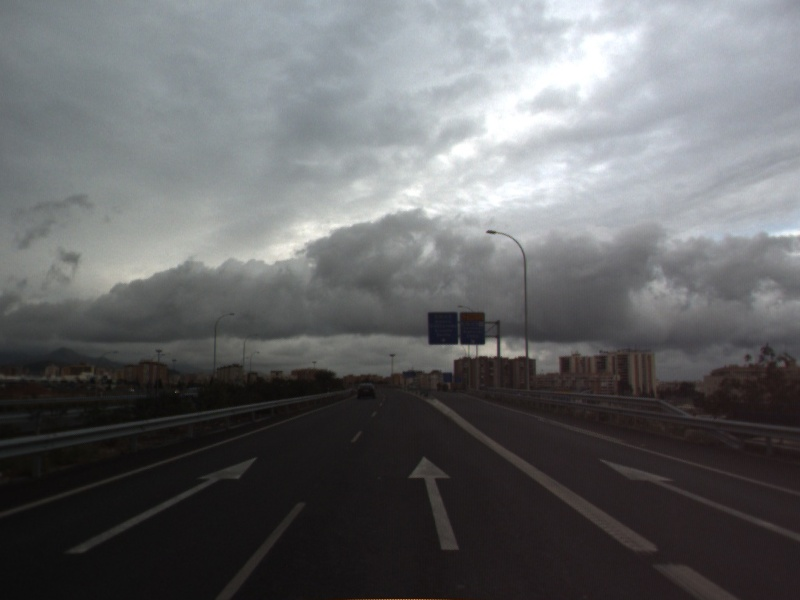STRAIGHT: (61, 455, 260, 557), (598, 457, 800, 542), (405, 454, 461, 553)
